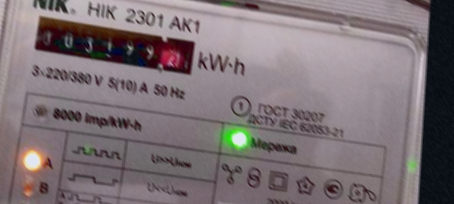0: (39, 26, 53, 46), (62, 29, 74, 48)
1: (104, 32, 114, 52)
3: (82, 34, 93, 53)
6: (165, 53, 176, 69)
9: (143, 42, 154, 61), (123, 37, 133, 56)
screen: (26, 11, 203, 82)
